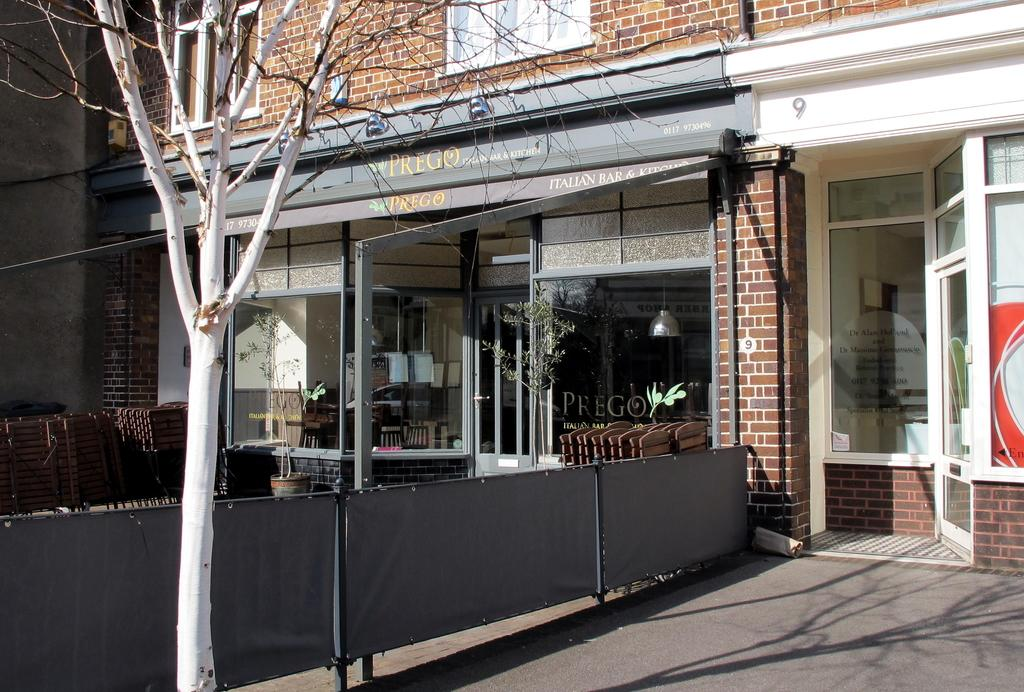handle: (475, 392, 492, 403)
